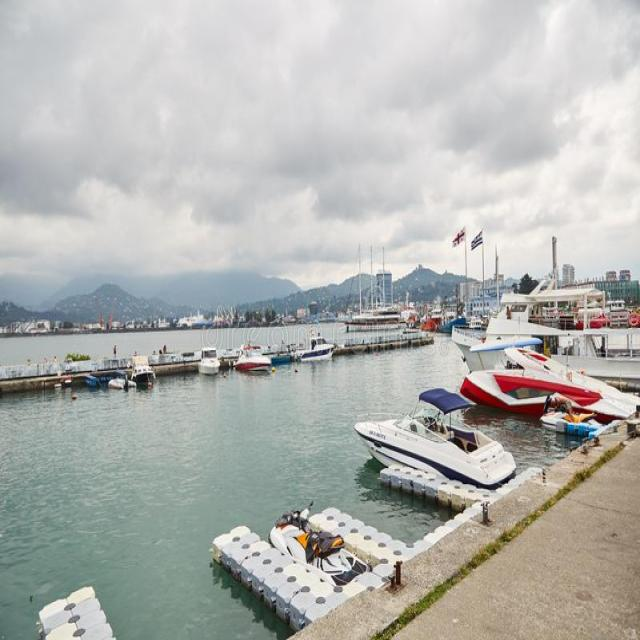houseboat: (356, 389, 514, 490), (229, 336, 273, 374), (297, 336, 330, 371)
